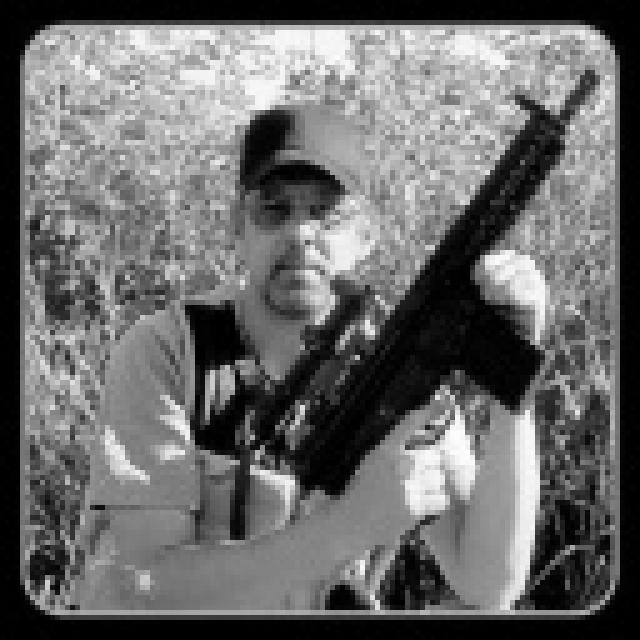Rifle: (178, 66, 626, 577)
